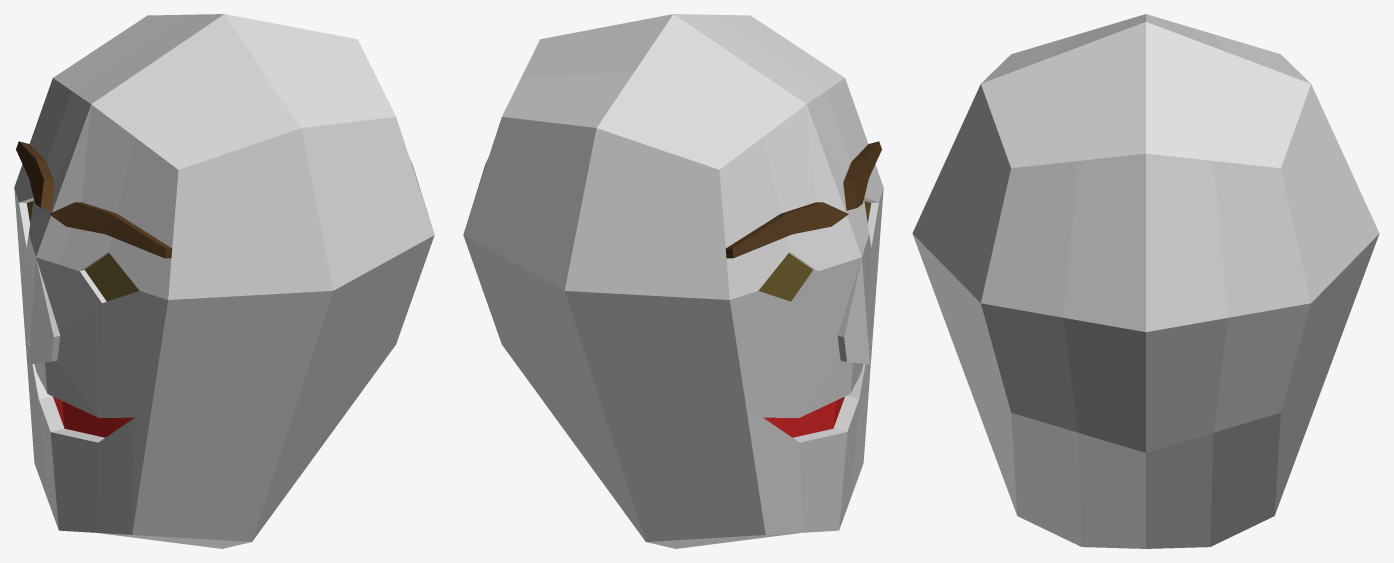
Rendered from weird head.fbx.
3 renders of one model, left to right at view 1: azimuth 30°, elevation 25°; view 2: azimuth 150°, elevation 25°; view 3: azimuth 270°, elevation 25°, orthographic. The views are drawn at different scales.
Parts seen in each view (by area): view 1: Roundcube.002; view 2: Roundcube.002; view 3: Roundcube.002.
Boxes of the visible parts, left/top/right/bottom form: Roundcube.002: left=14, top=14, right=434, bottom=548; Roundcube.002: left=463, top=14, right=883, bottom=548; Roundcube.002: left=912, top=14, right=1379, bottom=548.
Bounding box in the file's own units: 817 × 1028 × 800.
